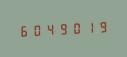four: (43, 21, 55, 37)
nine: (56, 20, 68, 36), (95, 18, 107, 34)
one: (82, 19, 94, 35)
six: (17, 22, 29, 38)
zero: (30, 21, 42, 38), (69, 19, 81, 36)
